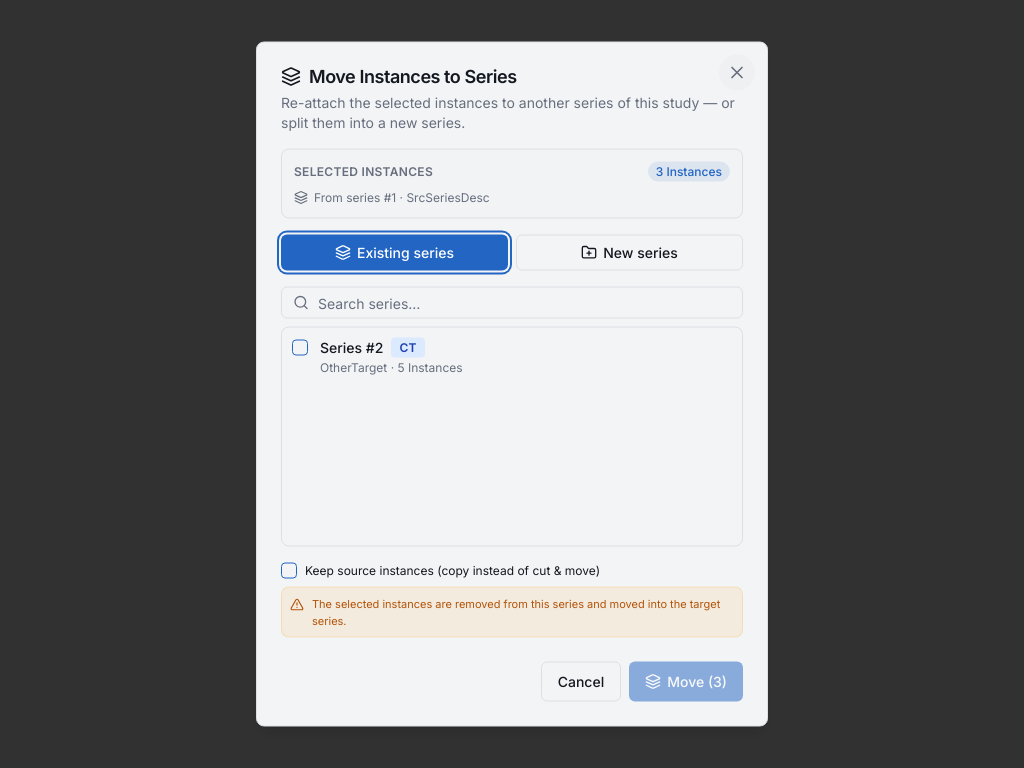
Test: MoveInstancesToSeriesDialog › keeps the submit button disabled until a target series is selected
Expected: the button "Move (3)" is disabled, [629, 662, 743, 702]
Step 1. Click the text "OtherTarget · 5 Instances" → (391,367), box [320, 360, 463, 374]
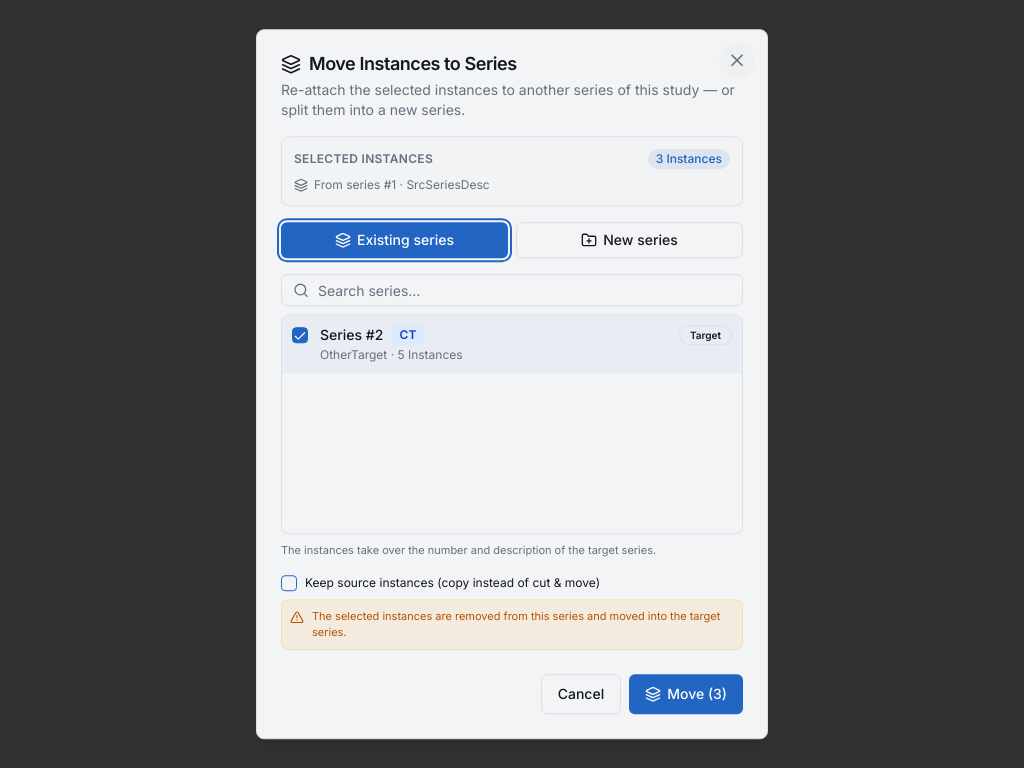
Now the button "Move (3)" is enabled, box [629, 674, 743, 714]
